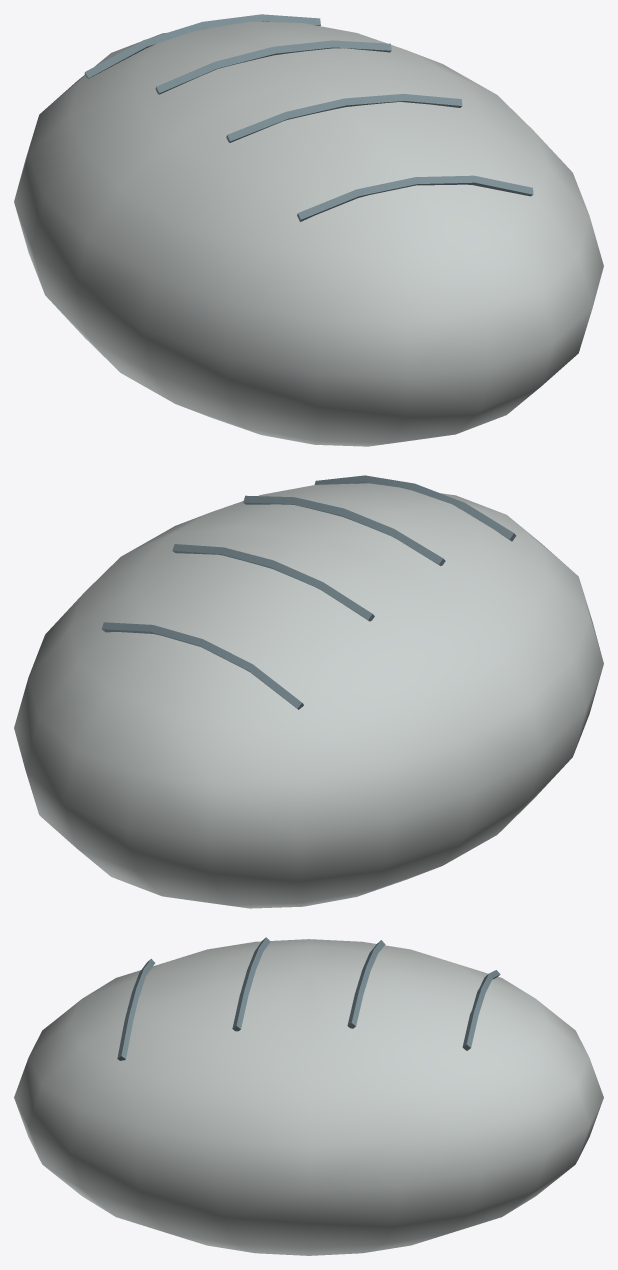
Rendered from bread-loaf.glb.
3 renders of one model, top to bottom at view 1: azimuth 30°, elevation 25°; view 2: azimuth 150°, elevation 25°; view 3: azimuth 270°, elevation 25°, orthographic. The views are drawn at different scales.
Visible parts, largest first — view 1: baked_loaf, baker_score_3, baker_score_2, baker_score_1, baker_score_0; view 2: baked_loaf, baker_score_0, baker_score_1, baker_score_2, baker_score_3; view 3: baked_loaf, baker_score_3, baker_score_2, baker_score_1, baker_score_0.
Boxes of the visible parts, x1,y1,x2,y2 form: baked_loaf: [14, 21, 603, 446]; baker_score_3: [297, 175, 533, 221]; baker_score_2: [226, 94, 462, 142]; baker_score_1: [155, 40, 391, 94]; baker_score_0: [84, 14, 320, 78]; baked_loaf: [14, 483, 603, 908]; baker_score_0: [101, 622, 303, 709]; baker_score_1: [172, 544, 374, 621]; baker_score_2: [243, 495, 445, 565]; baker_score_3: [314, 475, 516, 541]; baked_loaf: [14, 939, 603, 1255]; baker_score_3: [117, 958, 155, 1060]; baker_score_2: [232, 937, 270, 1031]; baker_score_1: [347, 940, 385, 1028]; baker_score_0: [462, 970, 500, 1050].
Size of the model in its own units: 0.2 by 0.1313 by 0.27.
